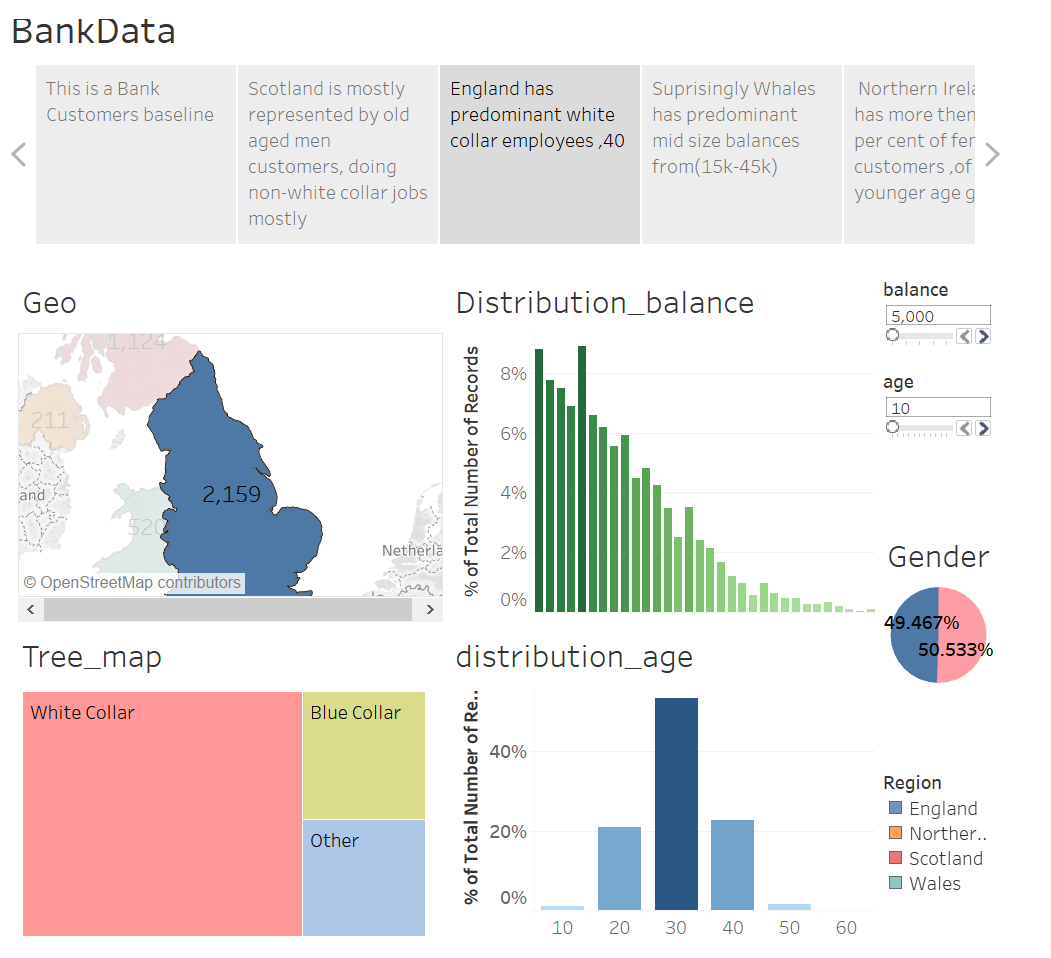

The page's visual inventory and layout, read from the dashboard file:
{"tool":"tableau","page":{"name":"Dashboard 1","canvas":[1000,1000],"units":"permille","ordinal":0},"visuals":[{"type":"worksheet","title":"Geo","mark":"Multipolygon","box":[7.8,10.4,434.1,515.6]},{"type":"worksheet","title":"Distribution_balance","mark":"Automatic","rows":["Number of Records"],"cols":["Balance (bin)"],"box":[441.9,10.4,434.1,515.6]},{"type":"parameter","param":"[Parameters].[Parameter 1]","box":[876,10.4,116.2,119.8]},{"type":"parameter","param":"[Parameters].[Parameter 2]","box":[876,130.2,116.2,210.9]},{"type":"worksheet","title":"Gender","mark":"Pie","box":[876,341.2,116.2,311.2]},{"type":"worksheet","title":"Tree_map","mark":"Automatic","box":[7.8,526,434.6,463.5]},{"type":"worksheet","title":"distribution_age","mark":"Bar","rows":["Number of Records"],"cols":["Age (bin) 2"],"box":[442.4,526,433.6,463.5]},{"type":"legend","title":"Geo","param":"[federated.1nreppc0ht07c41cfi82005qtnct].[none:Region:nk]","box":[876,652.4,116.2,174.5]}]}

Visuals, with their boxes on the dashboard's canvas, which has no fixed pixel size, in thousandths of its width and height (x1, y1, x2, y2). These are canvas units, not pixel positions in the 1051x958 screenshot, which may show the page scaled, cropped or inside an application window:
"Geo" worksheet (Multipolygon marks): <box>8,10,442,526</box>
"Distribution_balance" worksheet: <box>442,10,876,526</box>
parameter: <box>876,10,992,130</box>
parameter: <box>876,130,992,341</box>
"Gender" worksheet (Pie marks): <box>876,341,992,652</box>
"Tree_map" worksheet: <box>8,526,442,990</box>
"distribution_age" worksheet (Bar marks): <box>442,526,876,990</box>
"Geo" legend: <box>876,652,992,827</box>
